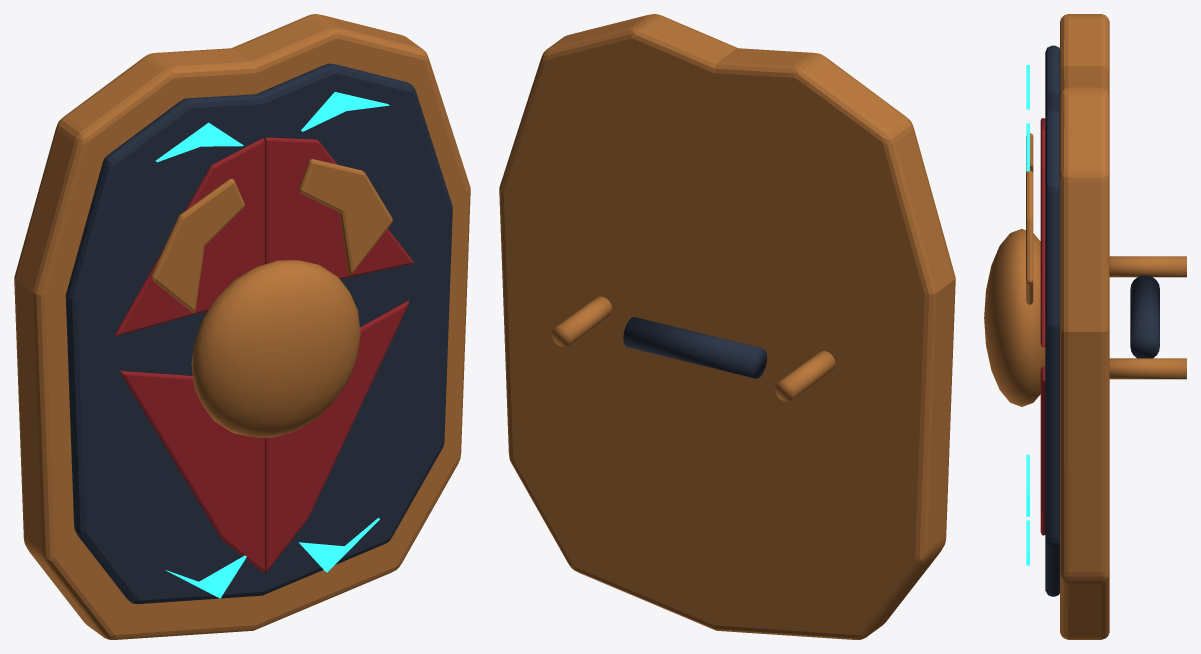
Rendered from titan_aegis.glb.
3 renders of one model, left to right at view 1: azimuth 30°, elevation 25°; view 2: azimuth 150°, elevation 25°; view 3: azimuth 270°, elevation 25°, orthographic. The views are drawn at different scales.
Parts seen in each view (by area): view 1: SM_Titan_Aegis; view 2: SM_Titan_Aegis; view 3: SM_Titan_Aegis.
Boxes of the visible parts, x1,y1,x2,y2 form: SM_Titan_Aegis: (14, 14, 470, 639); SM_Titan_Aegis: (499, 14, 955, 639); SM_Titan_Aegis: (984, 14, 1186, 639).
Size of the model in its own units: 0.9 by 1.15 by 0.3865.
